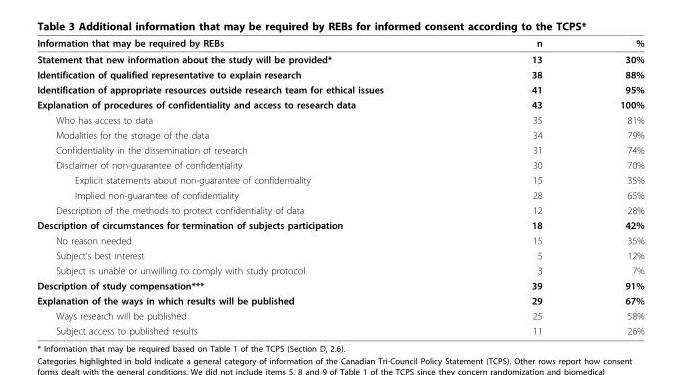table: (36, 36, 643, 336)
table column: (36, 36, 456, 336), (456, 36, 580, 336), (580, 36, 643, 336)
table column header: (36, 36, 643, 50)
table row: (36, 50, 643, 66), (36, 96, 643, 112), (36, 66, 643, 81), (36, 81, 643, 96), (36, 112, 643, 127), (36, 127, 643, 142), (36, 142, 643, 157), (36, 157, 643, 172), (36, 172, 643, 187), (36, 187, 643, 202), (36, 202, 643, 217), (36, 217, 643, 232), (36, 232, 643, 247), (36, 247, 643, 262), (36, 262, 643, 277), (36, 277, 643, 292), (36, 292, 643, 307), (36, 307, 643, 322), (36, 36, 643, 50), (36, 322, 643, 336)
